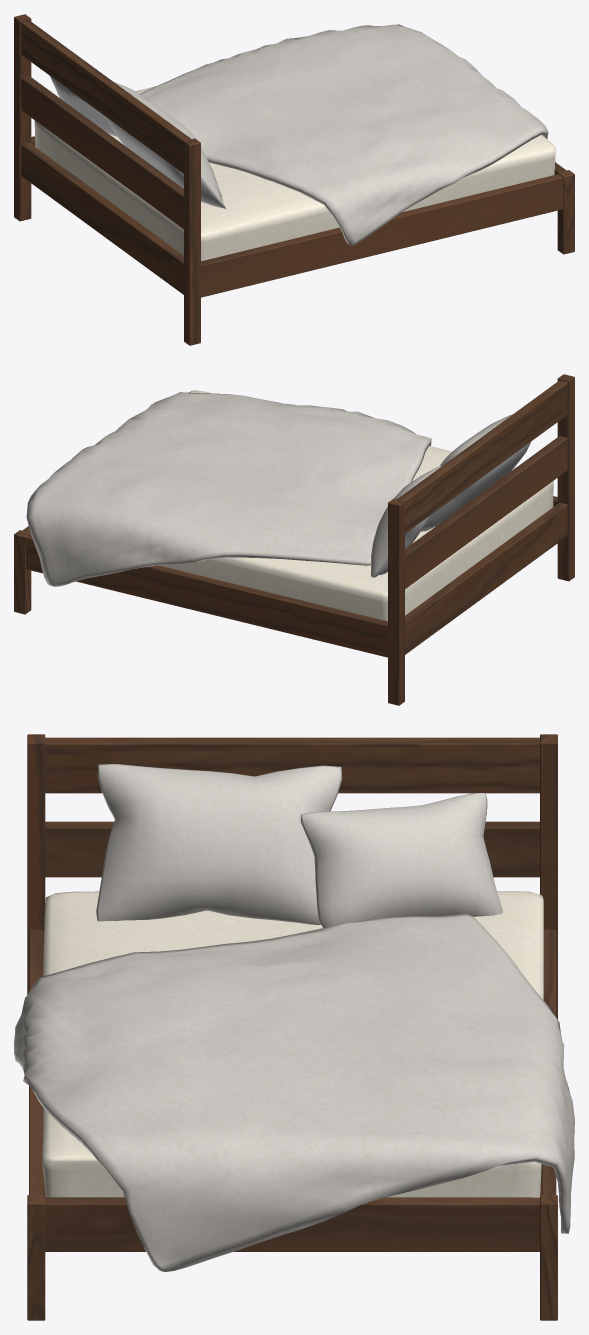
The model's file is bed1.obj.
3 renders of one model, top to bottom at view 1: azimuth 30°, elevation 25°; view 2: azimuth 150°, elevation 25°; view 3: azimuth 270°, elevation 25°, orthographic. The views are drawn at different scales.
Visible parts, largest first — view 1: Cube.004; view 2: Cube.004; view 3: Cube.004.
Part boxes in pixels (x1,y1,x2,y2): Cube.004: (14,14,574,345); Cube.004: (14,374,574,705); Cube.004: (14,734,574,1320).
Size of the model in its own units: 2.05 by 0.9918 by 1.66.
